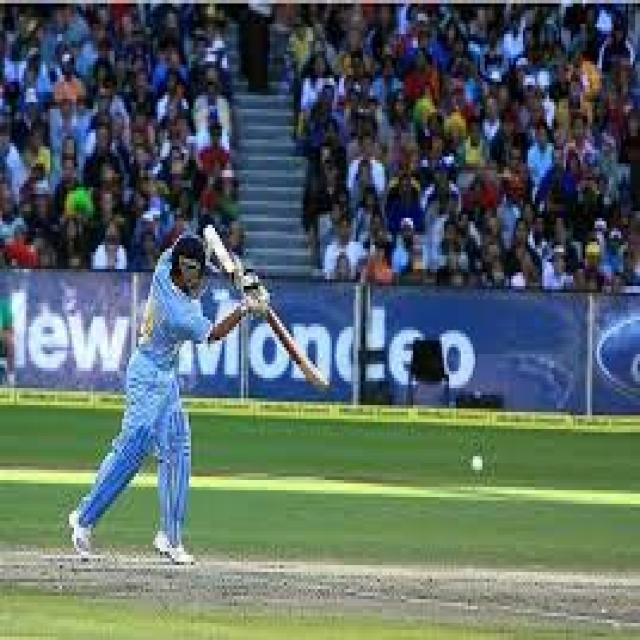bat: (260, 299, 338, 417)
